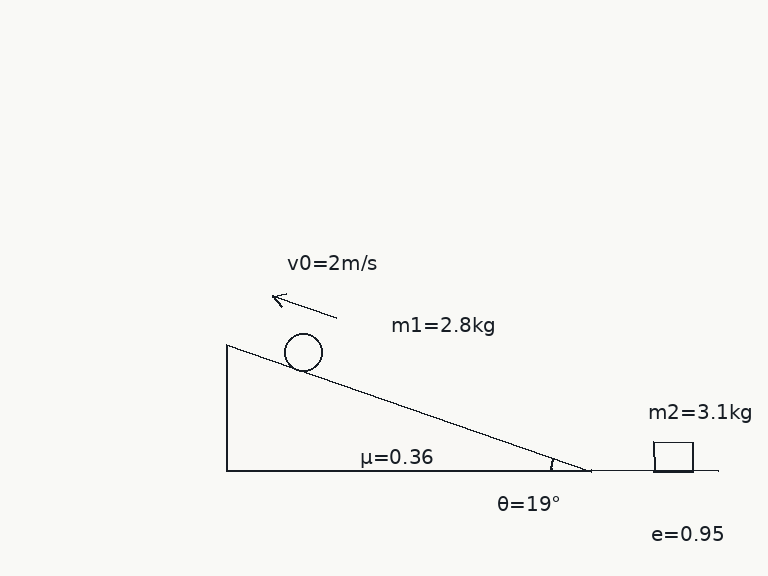ball: (282, 331, 324, 373)
block: (651, 440, 695, 473)
ramp: (224, 343, 593, 473)
